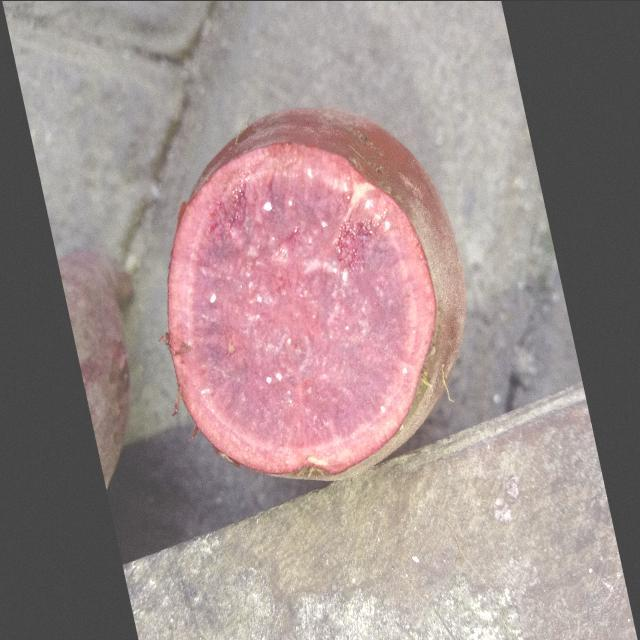Healthy Sweet Potato: (169, 142, 435, 473)
